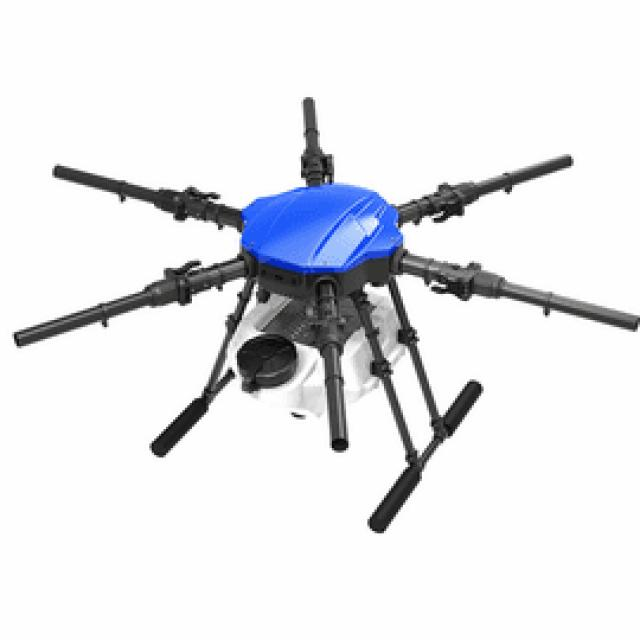drone: (0, 111, 640, 509)
